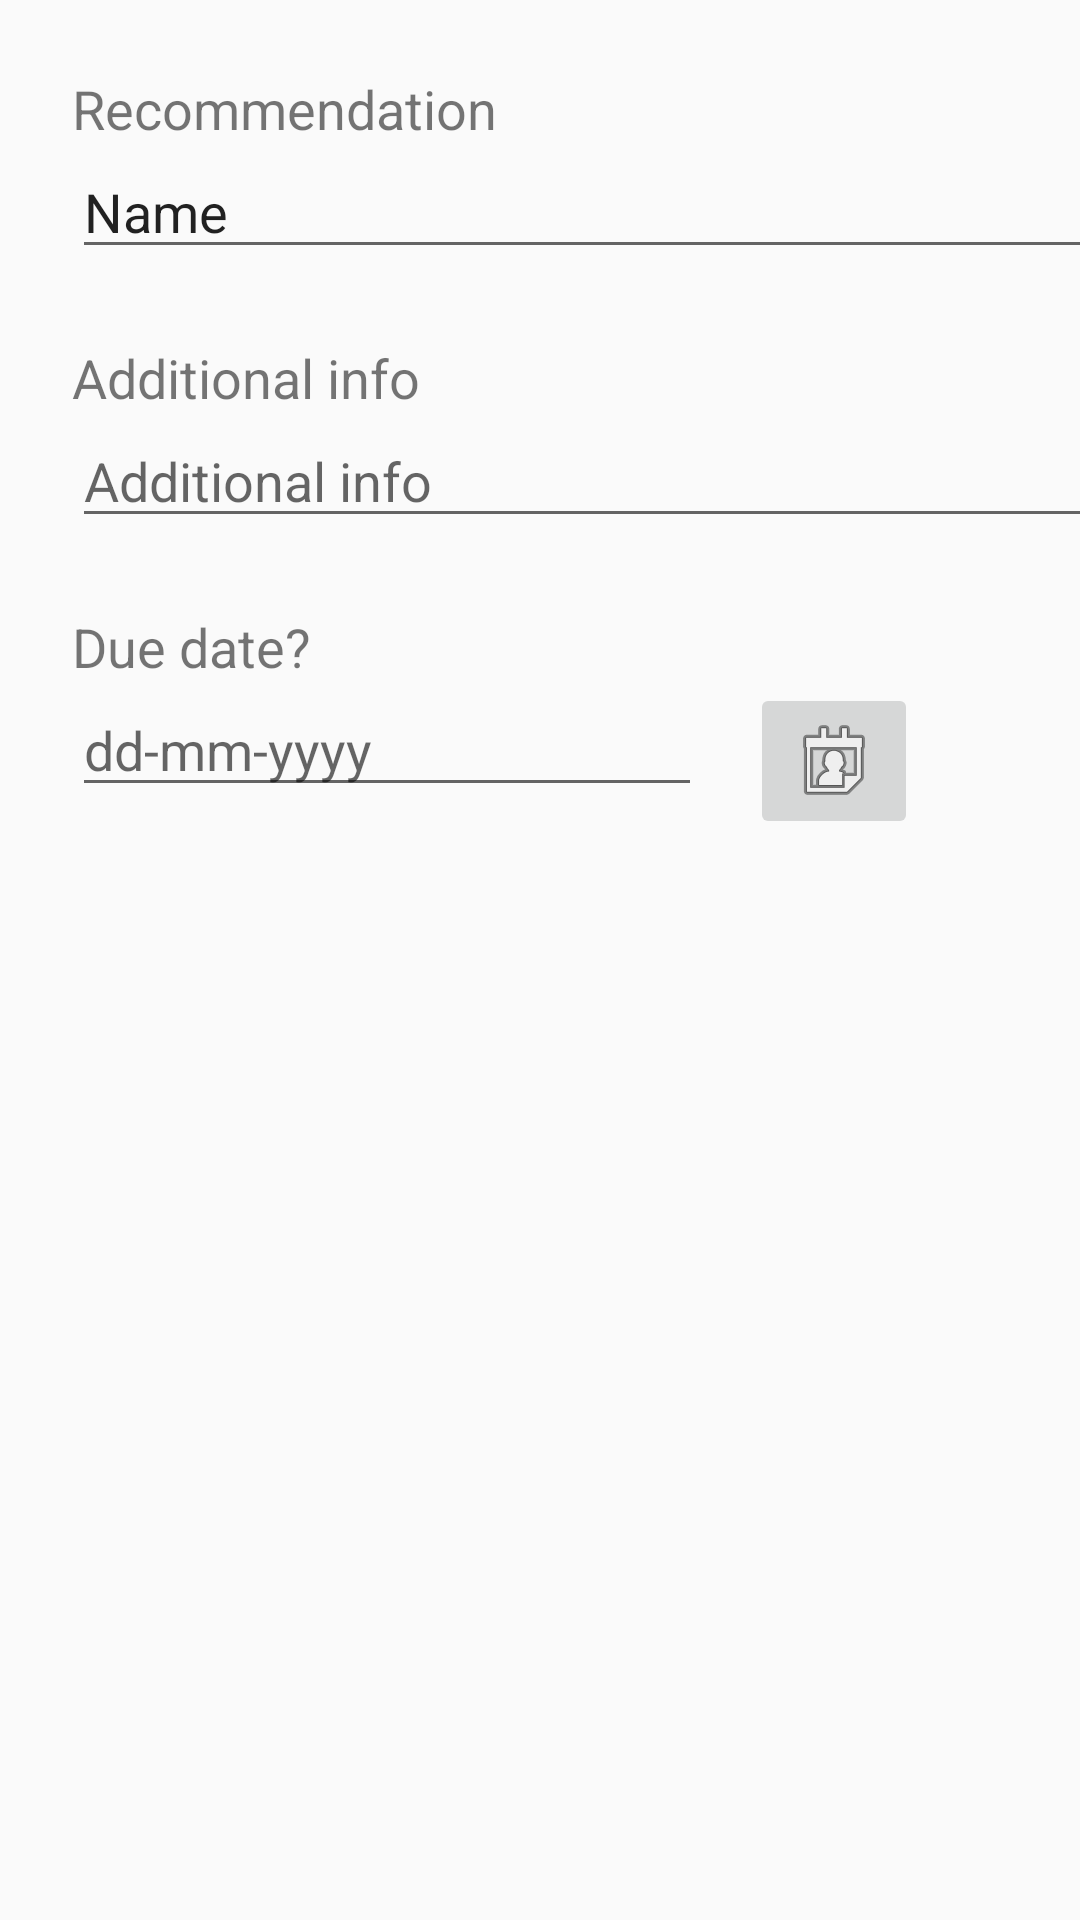

Icons on this 1080 × 1920 Android screen, each with its box as (x1, y1, x2, y2):
calendar: (762, 701, 906, 821)
